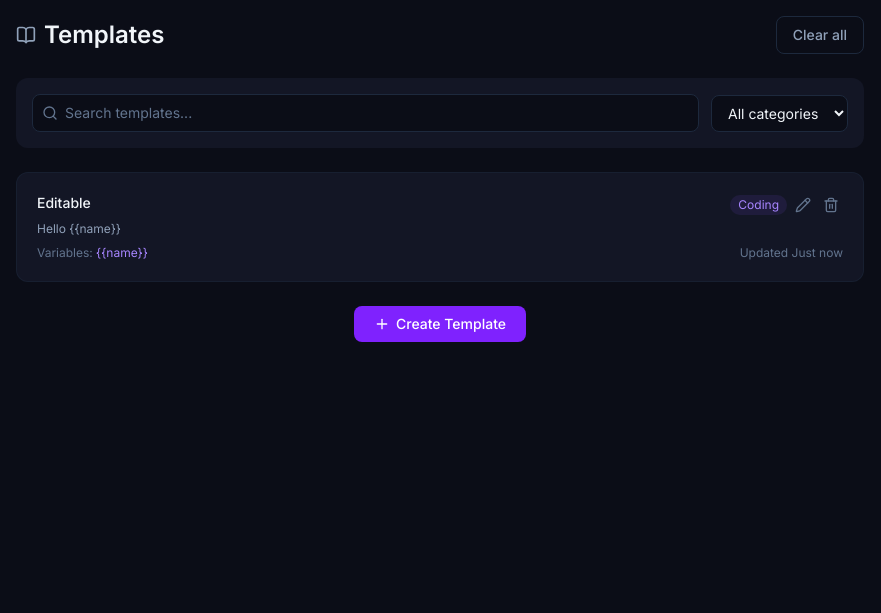
TemplateLibraryPage › edit template flow (TC-L-04)
The image size is (881, 613).
// Click edit button
Click the button named "Edit template: Editable".
click(803, 205)  # box [791,193,815,217]
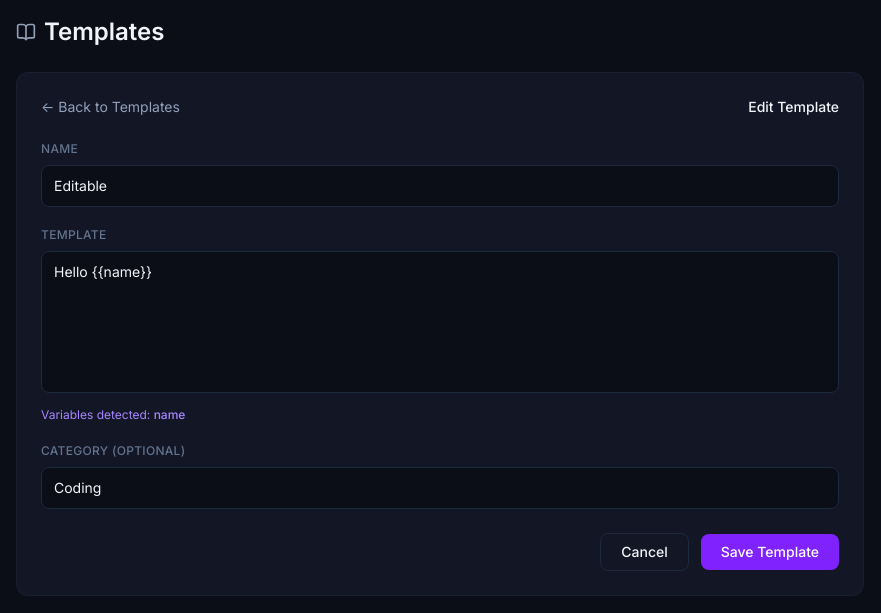
Now the heading "Edit Template" is shown, box [748,97,839,117]
